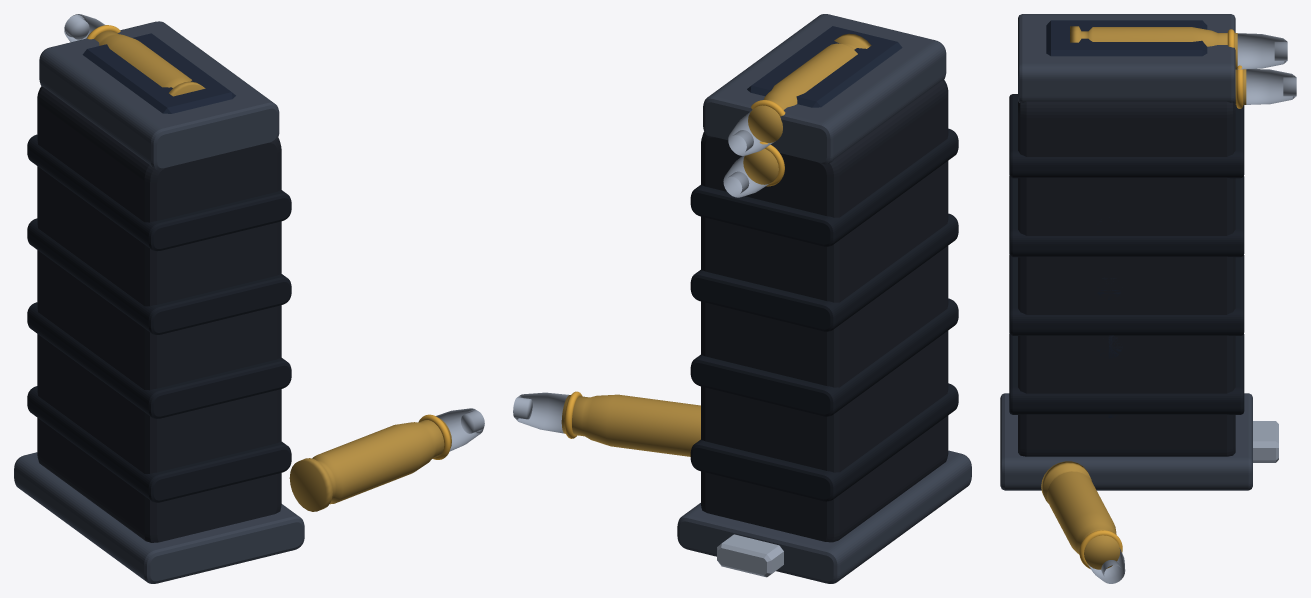
The model's file is ammo_hollowpoint.glb.
The picture shows the model from 3 angles, left to right: view 1: azimuth 30°, elevation 25°; view 2: azimuth 150°, elevation 25°; view 3: azimuth 270°, elevation 25°; orthographic projection. The views are drawn at different scales.
Visible parts, largest first — view 1: ammo_hollowpoint_mag, ammo_hollowpoint_lips, ammo_hollowpoint_base, ammo_hollowpoint_loose_case, ammo_hollowpoint_rib1, ammo_hollowpoint_rib2, ammo_hollowpoint_rib3, ammo_hollowpoint_rib0, ammo_hollowpoint_lip_cut, ammo_hollowpoint_top_case, ammo_hollowpoint_loose_tip, ammo_hollowpoint_top_tip; view 2: ammo_hollowpoint_mag, ammo_hollowpoint_lips, ammo_hollowpoint_base, ammo_hollowpoint_rib1, ammo_hollowpoint_rib2, ammo_hollowpoint_rib0, ammo_hollowpoint_rib3, ammo_hollowpoint_loose_case, ammo_hollowpoint_lip_cut, ammo_hollowpoint_top_case, ammo_hollowpoint_base_tab, ammo_hollowpoint_loose_tip (+3 smaller); view 3: ammo_hollowpoint_mag, ammo_hollowpoint_lips, ammo_hollowpoint_base, ammo_hollowpoint_rib0, ammo_hollowpoint_rib2, ammo_hollowpoint_rib1, ammo_hollowpoint_rib3, ammo_hollowpoint_loose_case, ammo_hollowpoint_lip_cut, ammo_hollowpoint_top_case, ammo_hollowpoint_second_tip, ammo_hollowpoint_top_tip (+3 smaller).
Part boxes in pixels (x1,y1,x2,y2): ammo_hollowpoint_mag: (37, 86, 281, 542); ammo_hollowpoint_lips: (39, 21, 279, 169); ammo_hollowpoint_base: (14, 452, 304, 583); ammo_hollowpoint_loose_case: (289, 417, 451, 511); ammo_hollowpoint_rib1: (27, 302, 291, 418); ammo_hollowpoint_rib2: (27, 218, 291, 334); ammo_hollowpoint_rib3: (27, 134, 291, 251); ammo_hollowpoint_rib0: (27, 386, 291, 502); ammo_hollowpoint_lip_cut: (82, 33, 235, 113); ammo_hollowpoint_top_case: (86, 30, 205, 96); ammo_hollowpoint_loose_tip: (436, 408, 484, 451); ammo_hollowpoint_top_tip: (64, 14, 105, 42); ammo_hollowpoint_mag: (701, 80, 948, 542); ammo_hollowpoint_lips: (703, 14, 946, 164); ammo_hollowpoint_base: (677, 450, 971, 583); ammo_hollowpoint_rib1: (690, 298, 958, 416); ammo_hollowpoint_rib2: (690, 213, 958, 331); ammo_hollowpoint_rib0: (690, 383, 958, 501); ammo_hollowpoint_rib3: (690, 128, 958, 246); ammo_hollowpoint_loose_case: (561, 394, 700, 456); ammo_hollowpoint_lip_cut: (747, 26, 902, 107); ammo_hollowpoint_top_case: (748, 33, 871, 143); ammo_hollowpoint_base_tab: (717, 534, 783, 577); ammo_hollowpoint_loose_tip: (513, 392, 568, 433); ammo_hollowpoint_mag: (1018, 100, 1235, 456); ammo_hollowpoint_lips: (1018, 14, 1235, 102); ammo_hollowpoint_base: (1000, 393, 1252, 490); ammo_hollowpoint_rib0: (1009, 334, 1244, 414); ammo_hollowpoint_rib2: (1009, 176, 1244, 257); ammo_hollowpoint_rib1: (1009, 255, 1244, 335); ammo_hollowpoint_rib3: (1009, 94, 1244, 178); ammo_hollowpoint_loose_case: (1041, 461, 1120, 569); ammo_hollowpoint_lip_cut: (1046, 20, 1207, 56); ammo_hollowpoint_top_case: (1070, 26, 1237, 69); ammo_hollowpoint_second_tip: (1246, 69, 1296, 104); ammo_hollowpoint_top_tip: (1237, 33, 1287, 69).
Size of the model in its own units: 0.0983 by 0.1088 by 0.068.
